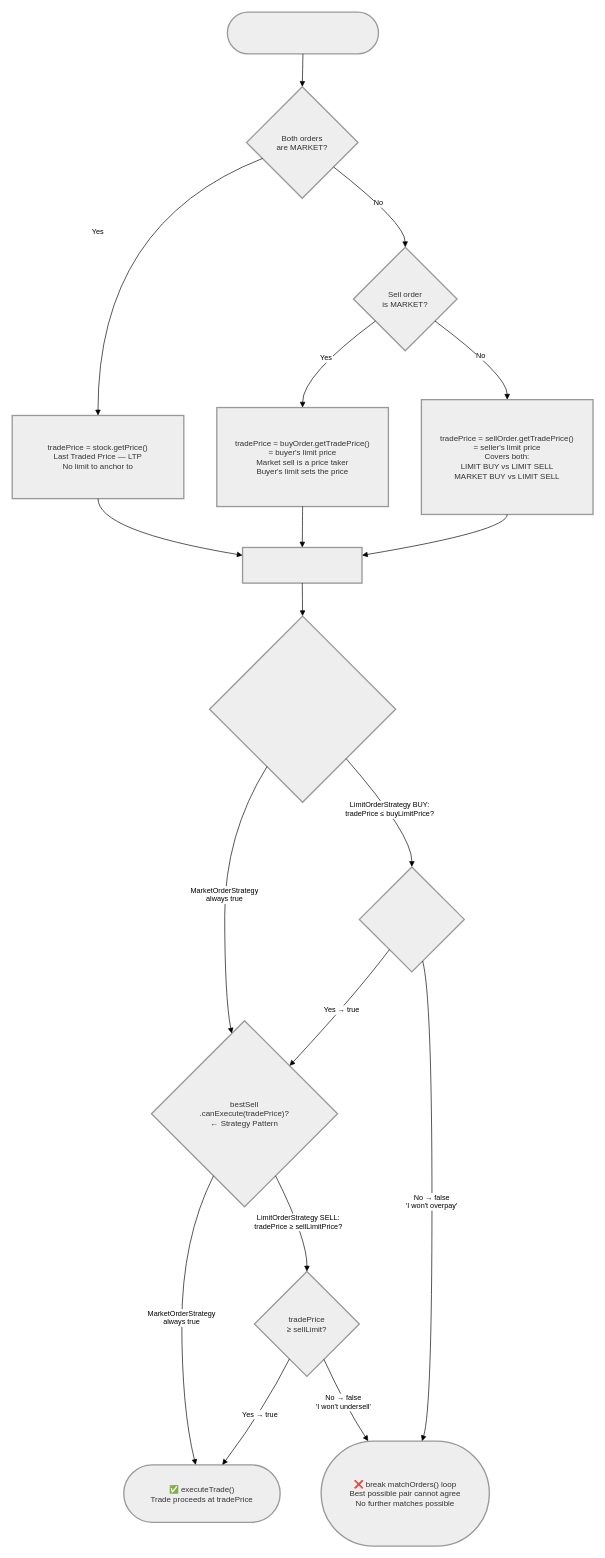
Some shapes in this 605 by 1558 pixel diagram are drawn without their labels. Here are the shapes that lost their labels. From the top down, the box of each, then its label:
(226, 11, 379, 54): determineTradePrice called with bestBuy and bestSell
(242, 546, 362, 583): canExecute Gate
(209, 615, 396, 803): bestBuy .canExecute(tradePrice)? ← Strategy Pattern
(358, 866, 465, 972): tradePrice ≤ buyLimit?
